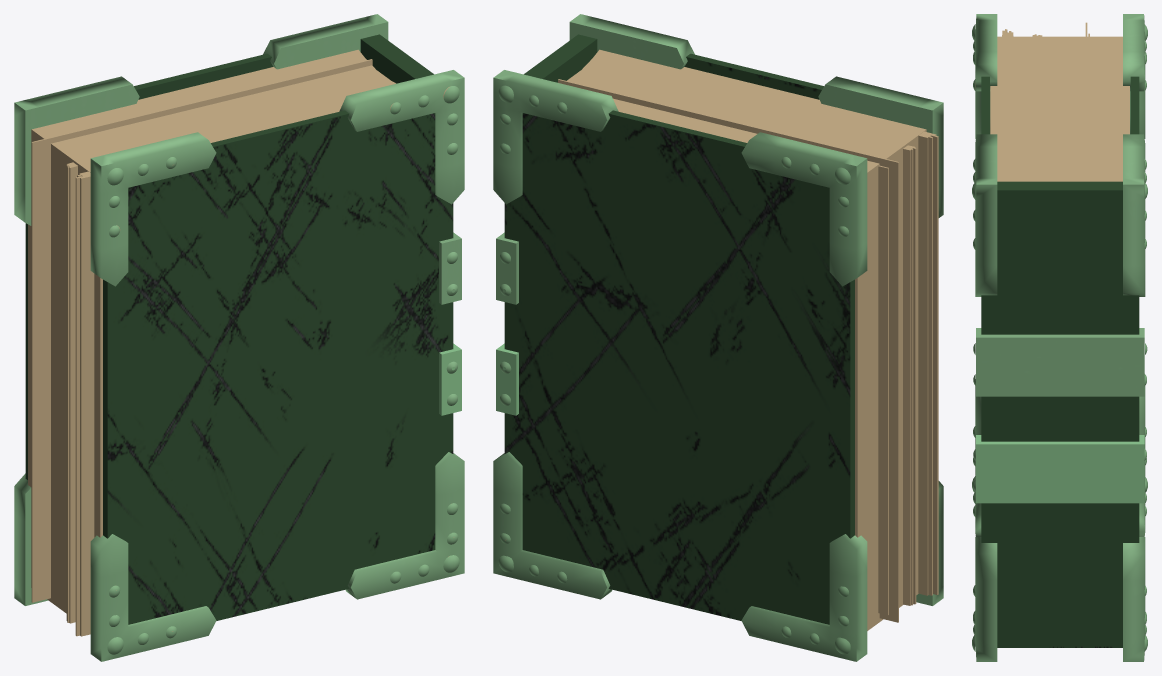
The model's file is green_book.glb.
3 renders of one model, left to right at view 1: azimuth 30°, elevation 25°; view 2: azimuth 150°, elevation 25°; view 3: azimuth 270°, elevation 25°, orthographic. The views are drawn at different scales.
Parts seen in each view (by area): view 1: Cube_0, Cube.001_1, Cube.004_12, Cube.008_16, Cube.006_14, Cube.005_13, Cube.003_9, Cube.002_8, Circle_2; view 2: Cube_0, Cube.001_1, Cube.004_12, Cube.006_14, Cube.008_16, Cube.005_13, Cube.007_15, Cube.003_9, Cube.002_8, Circle_2; view 3: Cube_0, Cube.004_12, Cube.001_1, Cube.002_8, Cube.003_9, Cube.008_16, Circle_2.
Part boxes in pixels (x1,y1,x2,y2): Cube_0: (25,34,453,624); Cube.001_1: (14,14,464,661); Cube.004_12: (28,49,395,613); Cube.008_16: (31,59,372,602); Cube.006_14: (75,171,94,636); Cube.005_13: (66,162,77,623); Cube.003_9: (439,343,461,415); Cube.002_8: (439,232,461,304); Circle_2: (107,86,459,654); Cube_0: (504,34,854,624); Cube.001_1: (493,14,943,661); Cube.004_12: (567,49,926,630); Cube.006_14: (918,131,938,595); Cube.008_16: (558,79,898,622); Cube.005_13: (903,145,916,605); Cube.007_15: (878,165,888,615); Cube.003_9: (496,343,518,415); Cube.002_8: (496,232,518,304); Circle_2: (498,85,850,654); Cube_0: (981,76,1139,647); Cube.004_12: (990,36,1129,181); Cube.001_1: (975,14,1145,661); Cube.002_8: (976,328,1144,396); Cube.003_9: (976,435,1144,503); Cube.008_16: (1085,22,1087,181); Circle_2: (972,24,1147,651).
Bounding box in the file's own units: 1.65 × 2.09 × 0.696.
Materials: 3 (3 with a texture image).
